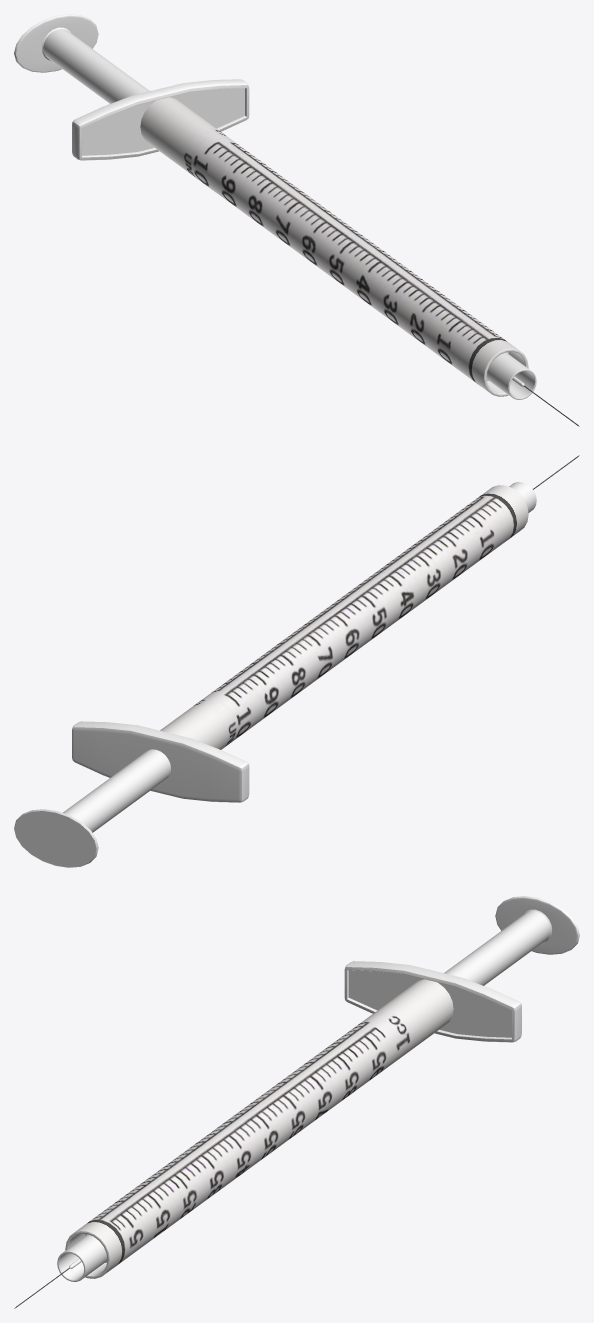
The model's file is syringe_v1.fbx.
3 renders of one model, top to bottom at view 1: azimuth 30°, elevation 25°; view 2: azimuth 150°, elevation 25°; view 3: azimuth 330°, elevation 25°, orthographic.
Parts seen in each view (by area): view 1: syringe_v1_combined_mesh_result; view 2: syringe_v1_combined_mesh_result; view 3: syringe_v1_combined_mesh_result.
Boxes of the visible parts, x1,y1,x2,y2 form: syringe_v1_combined_mesh_result: (14, 14, 579, 426); syringe_v1_combined_mesh_result: (14, 455, 579, 867); syringe_v1_combined_mesh_result: (14, 896, 579, 1308).
Size of the model in its own units: 4.63 by 1.49 by 24.4.
1 material, 1 textured.
